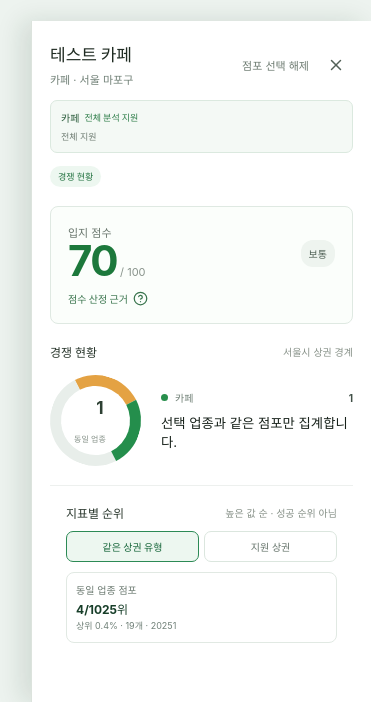
Test: MarketInspector population evidence › switches ranking peer groups without mixing their denominators
Expected: the text "4/1025위" is shown, x1=76 y1=602 x2=128 y2=617
Click the button "지원 상권". click: [270, 546]
box: x1=204 y1=531 x2=337 y2=562
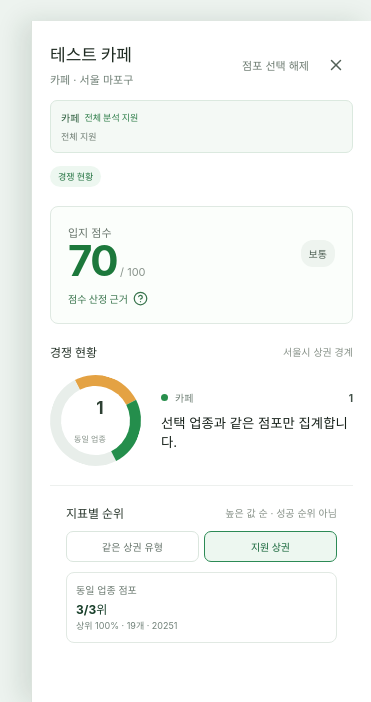
Expected: the text "3/3위" is shown, x1=76 y1=602 x2=107 y2=617
Expected: the text "4/1025위" is gone
